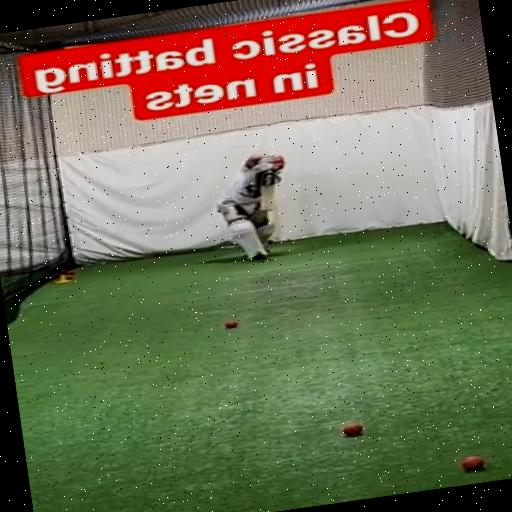Cricket bat: (262, 170, 278, 217)
